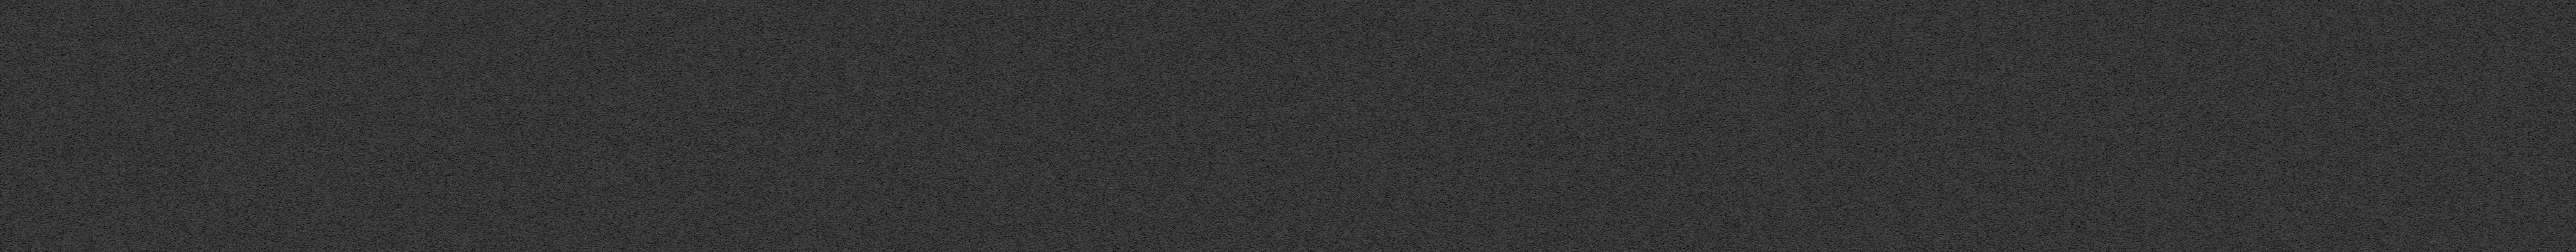wv_dvbt_8kfft: (532, 0, 1656, 252)
wv_lsb: (2426, 2, 2430, 97), (2426, 163, 2430, 216), (2426, 97, 2430, 148), (2426, 216, 2430, 252), (2426, 148, 2430, 163)
wv_usb: (2433, 181, 2436, 217), (2433, 153, 2436, 180), (2433, 2, 2436, 25), (2433, 96, 2436, 117), (2433, 231, 2436, 252), (2433, 25, 2436, 43), (2433, 44, 2436, 61), (2433, 72, 2436, 86), (2433, 61, 2436, 72), (2433, 142, 2436, 152), (2433, 125, 2436, 135), (2433, 117, 2436, 125), (2433, 217, 2436, 226), (2433, 226, 2436, 229), (2433, 138, 2436, 142), (2433, 92, 2436, 94), (2433, 91, 2435, 92), (2433, 87, 2435, 89)
wv_wbfm: (2399, 0, 2428, 252)
